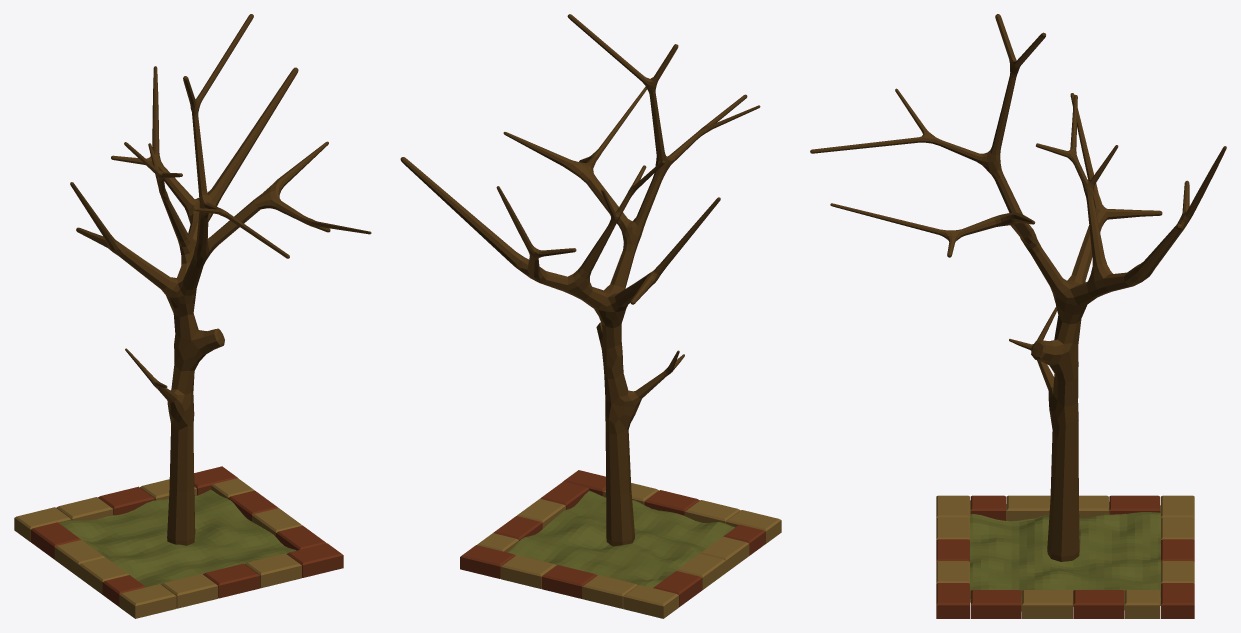
Rendered from arbre avec sol.fbx.
The picture shows the model from 3 angles, left to right: view 1: azimuth 30°, elevation 25°; view 2: azimuth 150°, elevation 25°; view 3: azimuth 270°, elevation 25°; orthographic projection. The views are drawn at different scales.
Visible parts, largest first — view 1: arbre; view 2: arbre; view 3: arbre.
Boxes of the visible parts, x1=… form: arbre: x1=14, y1=14, x2=371, y2=618; arbre: x1=400, y1=14, x2=781, y2=618; arbre: x1=810, y1=14, x2=1226, y2=618.
Bounding box in the file's own units: 202 × 367 × 246.
